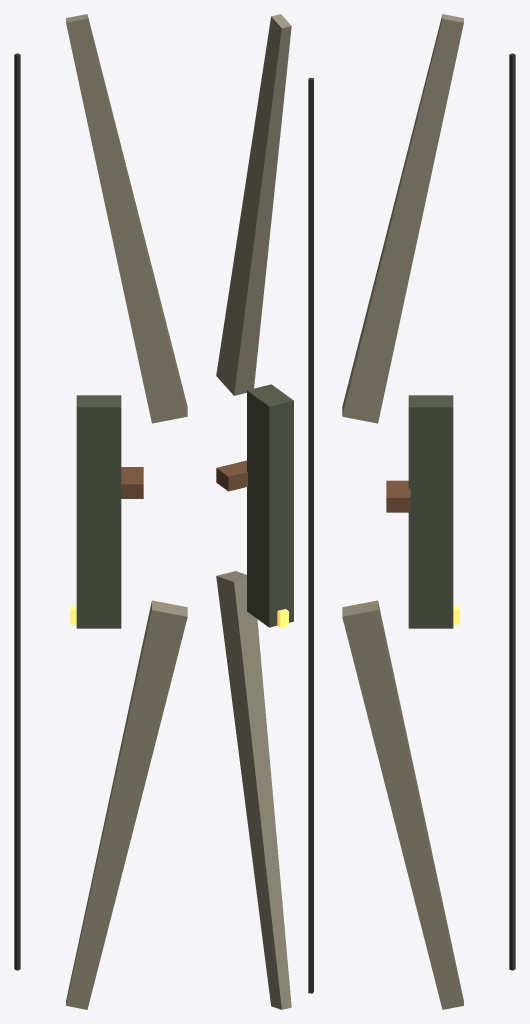
File: wpn_bow.glb
The picture shows the model from 3 angles, left to right: view 1: azimuth 90°, elevation 25°; view 2: azimuth 210°, elevation 25°; view 3: azimuth 270°, elevation 25°; orthographic projection.
Parts seen in each view (by area): view 1: limb_bot, limb_top, riser, string, arrow_rest; view 2: limb_bot, limb_top, riser, string, arrow_rest; view 3: limb_bot, limb_top, riser, string, arrow_rest.
Part boxes in pixels (x1,y1,x2,y2): limb_bot: (66, 600, 187, 1009); limb_top: (66, 14, 187, 423); riser: (76, 395, 121, 628); string: (14, 53, 20, 970); arrow_rest: (121, 467, 143, 498); limb_bot: (216, 571, 291, 1009); limb_top: (216, 14, 291, 395); riser: (247, 384, 293, 627); string: (308, 77, 313, 993); arrow_rest: (216, 460, 247, 491); limb_bot: (342, 600, 463, 1009); limb_top: (342, 14, 463, 423); riser: (408, 395, 453, 628); string: (509, 53, 515, 970); arrow_rest: (386, 480, 410, 512).
Size of the model in its own units: 0.0625 by 1.34 by 0.2132.
